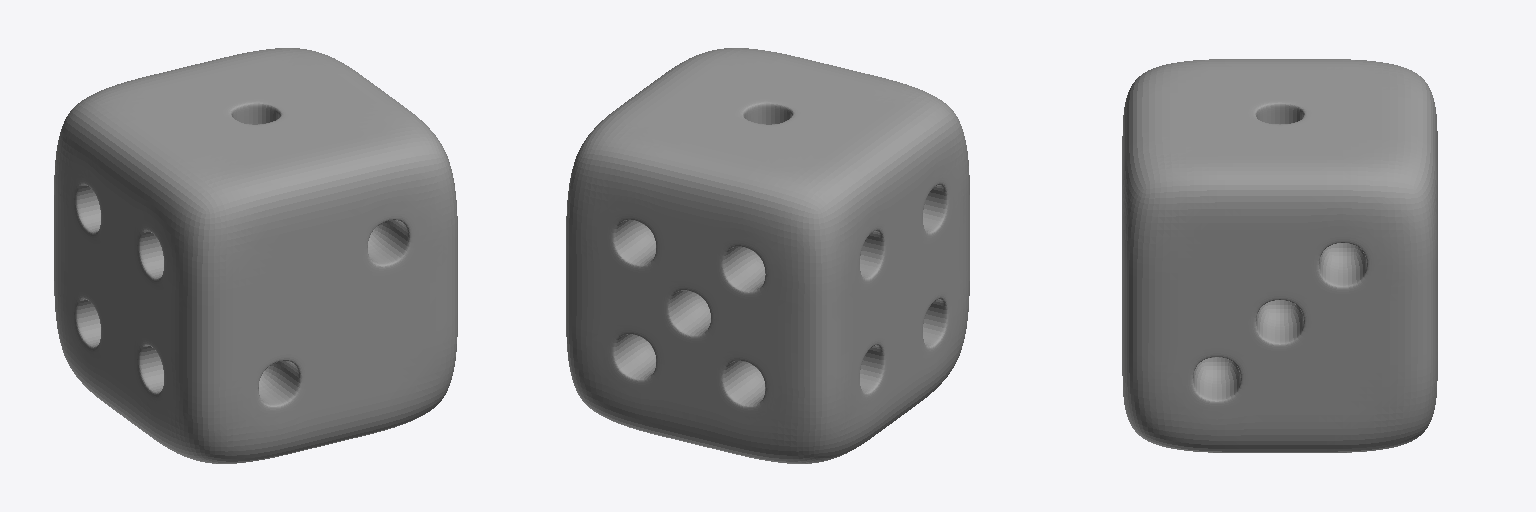
The model's file is dice3.obj.
3 views of the same model, side by side, from view 1: azimuth 30°, elevation 25°; view 2: azimuth 150°, elevation 25°; view 3: azimuth 270°, elevation 25° (orthographic).
Visible parts, largest first — view 1: Cube; view 2: Cube; view 3: Cube.
Part boxes in pixels (x1,y1,x2,y2): Cube: (54, 48, 457, 463); Cube: (566, 48, 969, 463); Cube: (1122, 59, 1437, 452).
Size of the model in its own units: 2 by 2 by 2.